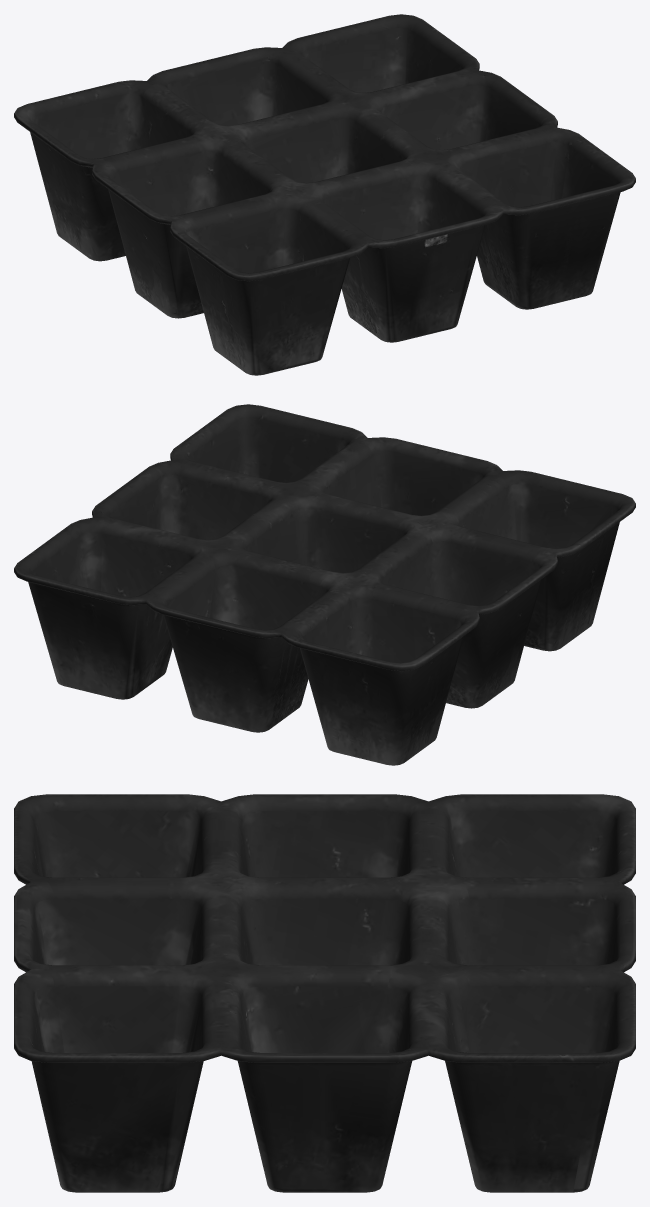
Rendered from seeding_tray_01.glb.
3 views of the same model, one above another, from view 1: azimuth 30°, elevation 25°; view 2: azimuth 150°, elevation 25°; view 3: azimuth 270°, elevation 25° (orthographic). The views are drawn at different scales.
Visible parts, largest first — view 1: seeding_tray_01; view 2: seeding_tray_01; view 3: seeding_tray_01.
Part boxes in pixels (x1,y1,x2,y2): seeding_tray_01: (14,14,635,375); seeding_tray_01: (14,404,635,765); seeding_tray_01: (14,794,635,1192).
Size of the model in its own units: 0.2202 by 0.0608 by 0.2202.
1 material, 1 textured.
